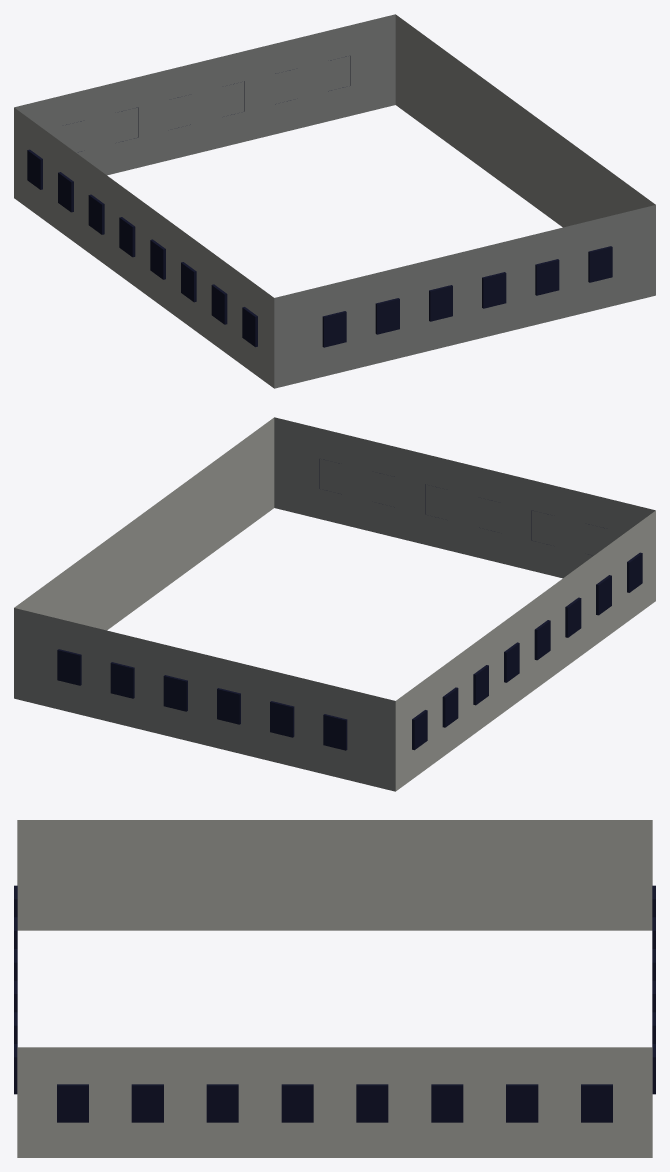
File: TB_CITY_Skysc_S_MidBodyA_Gray.FBX
The picture shows the model from 3 angles, top to bottom: view 1: azimuth 30°, elevation 25°; view 2: azimuth 150°, elevation 25°; view 3: azimuth 270°, elevation 25°; orthographic projection. The views are drawn at different scales.
Visible parts, largest first — view 1: TB_CITY_Skysc_S_MidBodyA_Gray; view 2: TB_CITY_Skysc_S_MidBodyA_Gray; view 3: TB_CITY_Skysc_S_MidBodyA_Gray.
Part boxes in pixels (x1=…): TB_CITY_Skysc_S_MidBodyA_Gray: x1=14, y1=14, x2=655, y2=388; TB_CITY_Skysc_S_MidBodyA_Gray: x1=14, y1=417, x2=655, y2=791; TB_CITY_Skysc_S_MidBodyA_Gray: x1=14, y1=820, x2=655, y2=1157.
Bounding box in the file's own units: 22.32 × 5 × 26.28.
